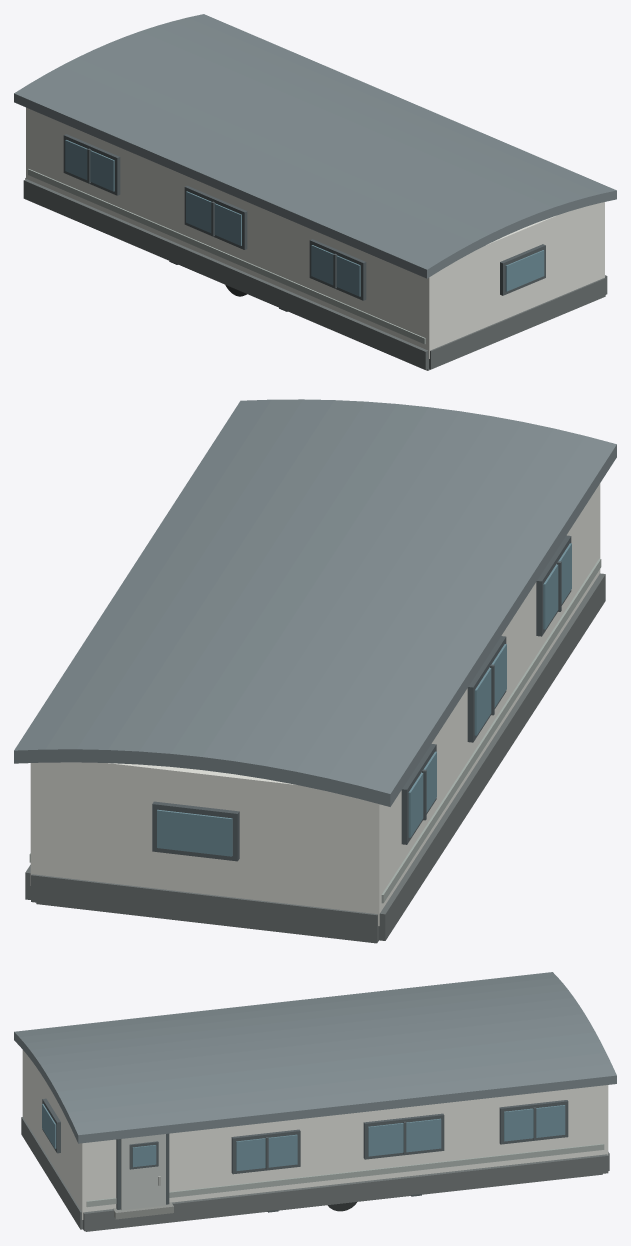
The picture shows the model from 3 angles, top to bottom: view 1: azimuth 30°, elevation 25°; view 2: azimuth 150°, elevation 25°; view 3: azimuth 270°, elevation 25°; orthographic projection. The views are drawn at different scales.
Visible parts, largest first — view 1: shallow_crowned_roof, main_caravan_body, lower_side_skirt_negative, lower_end_skirt_positive, side_stripe_negative, negative_side_window_2_glass, negative_side_window_3_glass, negative_side_window_1_glass, front_end_window_glass, negative_side_window_1_frame, negative_side_window_2_frame, negative_side_window_3_frame (+1 smaller); view 2: shallow_crowned_roof, main_caravan_body, lower_end_skirt_negative, lower_side_skirt_negative, rear_end_window_glass, side_stripe_negative, rear_end_window_frame, negative_side_window_2_glass, negative_side_window_3_glass, negative_side_window_1_glass, negative_side_window_2_frame, negative_side_window_3_frame (+2 smaller); view 3: shallow_crowned_roof, main_caravan_body, lower_side_skirt_positive, side_stripe_positive, entrance_door_panel, positive_side_window_2_glass, positive_side_window_3_glass, positive_side_window_1_glass, lower_end_skirt_positive, positive_side_window_2_frame, positive_side_window_3_frame, positive_side_window_1_frame (+5 smaller).
Boxes of the visible parts, x1,y1,x2,y2 form: shallow_crowned_roof: (14,14,616,278); main_caravan_body: (26,107,604,358); lower_side_skirt_negative: (23,179,428,369); lower_end_skirt_positive: (429,278,605,369); side_stripe_negative: (28,169,425,344); negative_side_window_2_glass: (186,191,241,245); negative_side_window_3_glass: (311,245,360,296); negative_side_window_1_glass: (65,140,114,191); front_end_window_glass: (505,250,544,291); negative_side_window_1_frame: (63,134,120,195); negative_side_window_2_frame: (184,185,247,249); negative_side_window_3_frame: (309,239,366,300); shallow_crowned_roof: (14,399,616,806); main_caravan_body: (30,483,600,925); lower_end_skirt_negative: (31,874,378,941); lower_side_skirt_negative: (378,573,605,940); rear_end_window_glass: (157,809,232,856); side_stripe_negative: (381,558,601,903); rear_end_window_frame: (152,801,239,861); negative_side_window_2_glass: (474,644,506,735); negative_side_window_3_glass: (543,543,571,629); negative_side_window_1_glass: (408,751,436,837); negative_side_window_2_frame: (467,636,506,742); negative_side_window_3_frame: (536,535,571,636); shallow_crowned_roof: (14,972,616,1143); main_caravan_body: (22,1050,608,1219); lower_side_skirt_positive: (83,1154,608,1231); side_stripe_positive: (86,1144,604,1207); entrance_door_panel: (121,1134,165,1210); positive_side_window_2_glass: (368,1118,441,1156); positive_side_window_3_glass: (236,1134,297,1171); positive_side_window_1_glass: (504,1105,565,1141); lower_end_skirt_positive: (21,1117,82,1229); positive_side_window_2_frame: (363,1113,444,1159); positive_side_window_3_frame: (231,1129,300,1174); positive_side_window_1_frame: (499,1100,568,1144).
Bounding box in the file's own units: 7.05 × 2.5 × 11.
